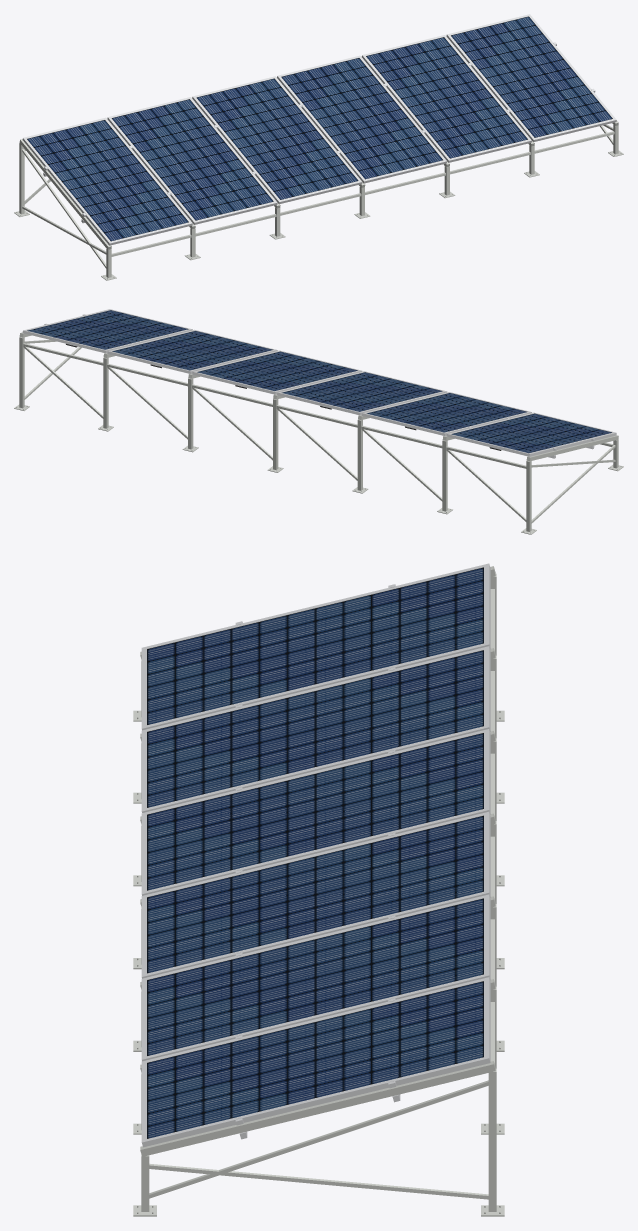
File: solar_3kw_6x1_rooftop.glb
The picture shows the model from 3 angles, top to bottom: view 1: azimuth 30°, elevation 25°; view 2: azimuth 150°, elevation 25°; view 3: azimuth 270°, elevation 25°; orthographic projection. The views are drawn at different scales.
Visible parts, largest first — view 1: solar_3kw_6x1_rooftop; view 2: solar_3kw_6x1_rooftop; view 3: solar_3kw_6x1_rooftop.
Part boxes in pixels (box(x1,y1,x2,y2)): solar_3kw_6x1_rooftop: box(14, 14, 623, 280); solar_3kw_6x1_rooftop: box(14, 309, 623, 534); solar_3kw_6x1_rooftop: box(133, 563, 504, 1216).
Size of the model in its own units: 7.59 by 1.08 by 2.36.
5 materials, 1 textured.
